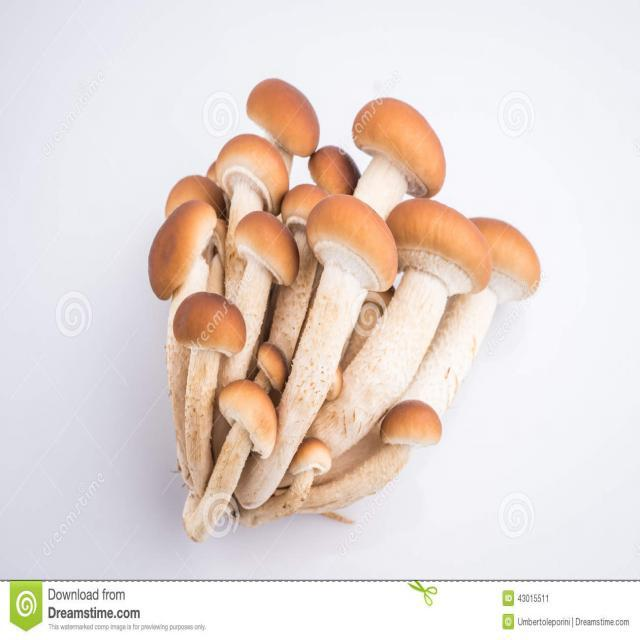Agrocybe aegerita: (151, 78, 541, 553)
